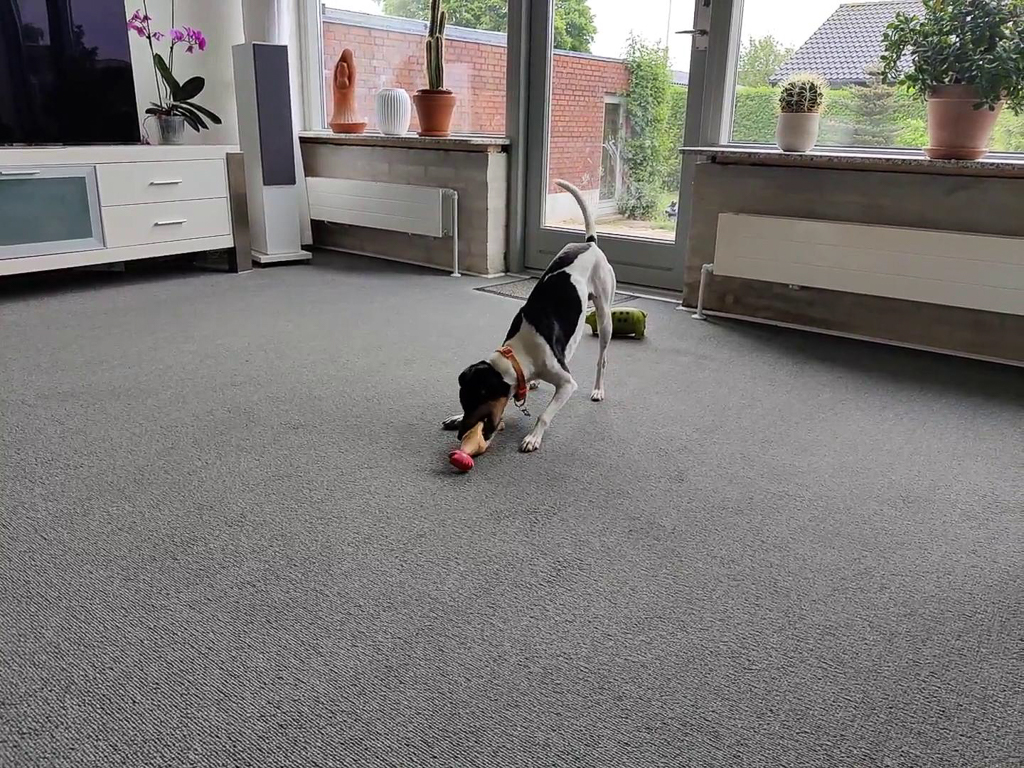Dog: (436, 172, 626, 459)
Humanoid: (320, 45, 373, 125), (663, 197, 681, 223)
